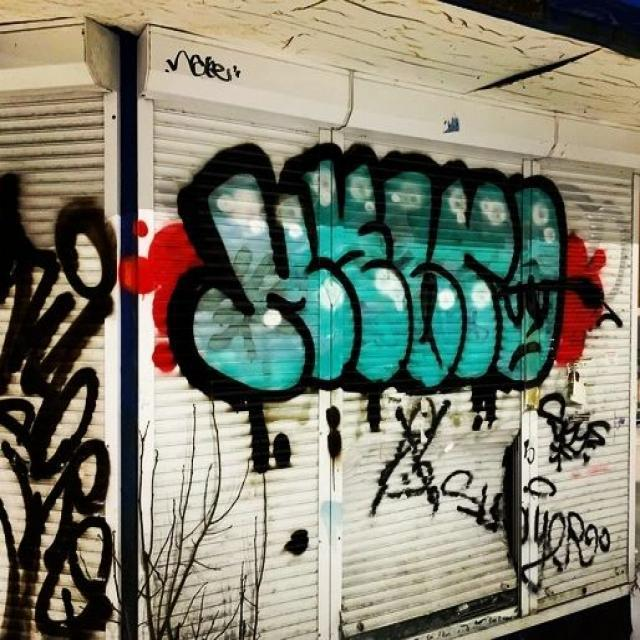-: (150, 107, 584, 398), (0, 153, 127, 638), (371, 398, 620, 568), (167, 50, 240, 88)
